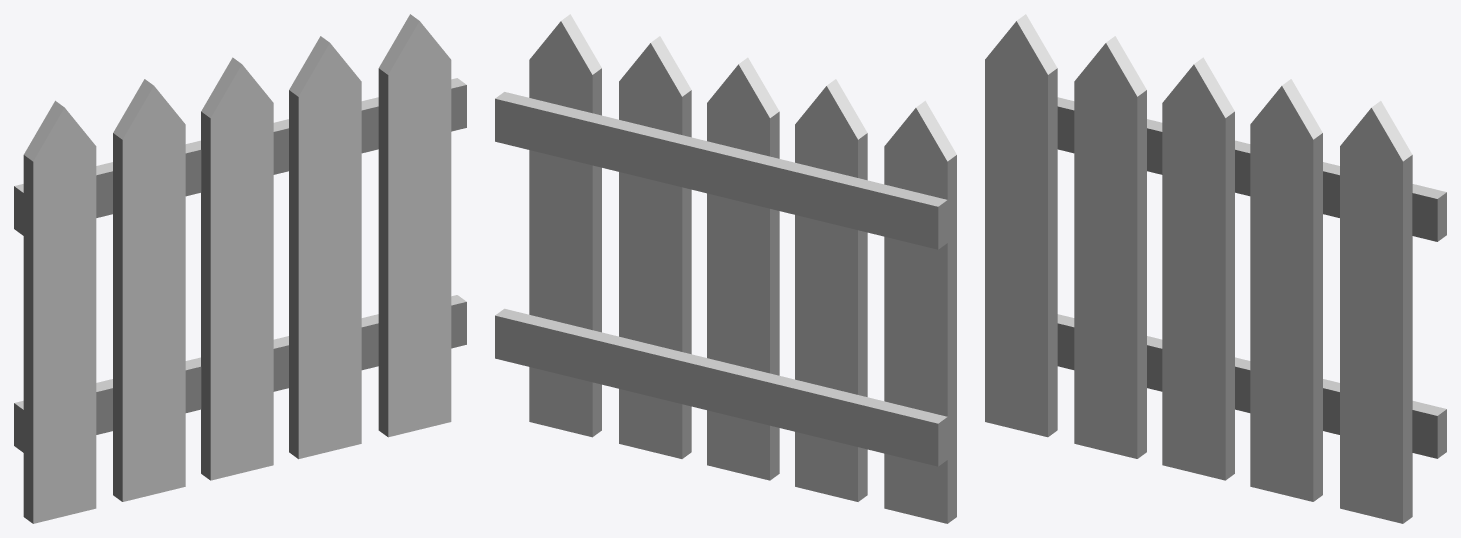
The model's file is SM_WhiteFence_01.fbx.
3 renders of one model, left to right at view 1: azimuth 30°, elevation 25°; view 2: azimuth 150°, elevation 25°; view 3: azimuth 330°, elevation 25°, orthographic.
Parts seen in each view (by area): view 1: SM_WhiteFence_01; view 2: SM_WhiteFence_01; view 3: SM_WhiteFence_01.
Boxes of the visible parts, left/top/right/bottom form: SM_WhiteFence_01: left=14, top=14, right=466, bottom=523; SM_WhiteFence_01: left=495, top=14, right=956, bottom=523; SM_WhiteFence_01: left=985, top=14, right=1446, bottom=523.
Size of the model in its own units: 2 by 1.76 by 0.1477.
